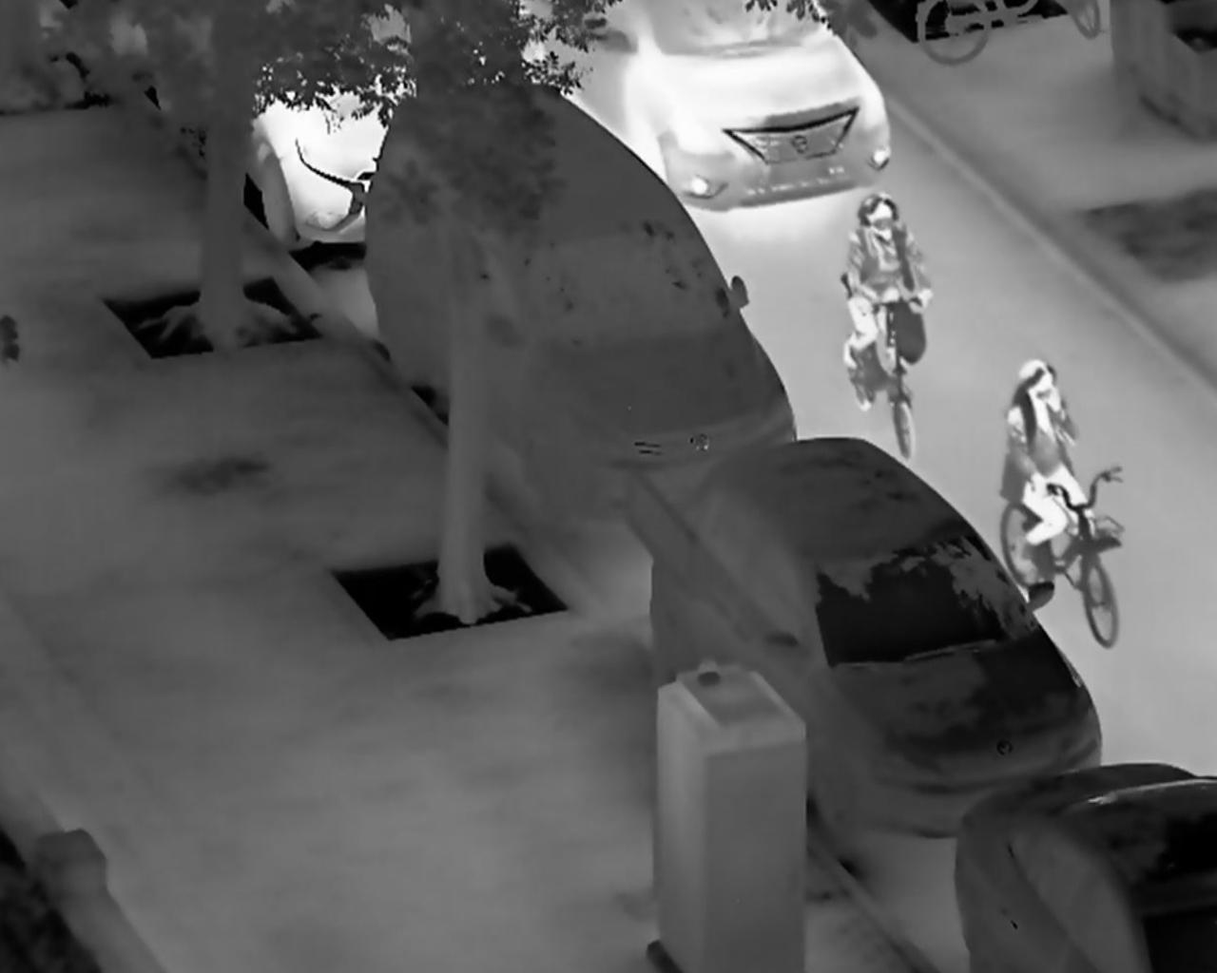person: (1002, 356, 1100, 593), (840, 191, 936, 415)
